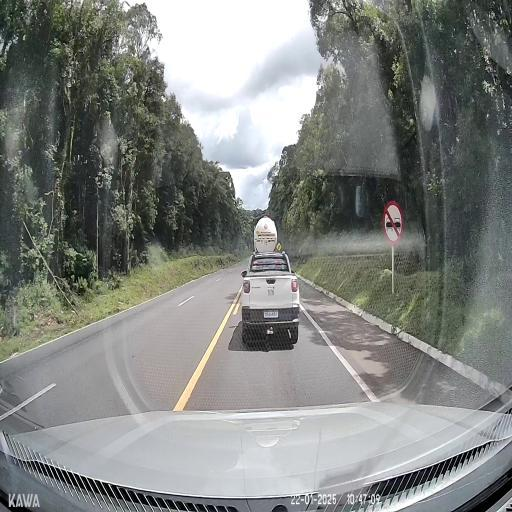R-7: (382, 201, 404, 246)
